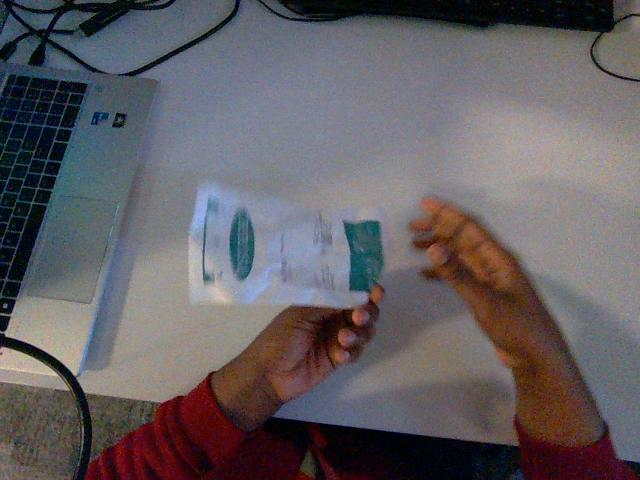gallipot: (189, 183, 385, 307)
